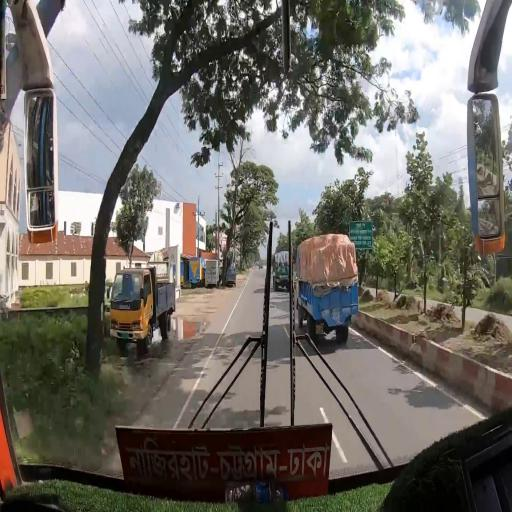pickup: (189, 258, 204, 283), (206, 261, 220, 286)
truck: (295, 236, 361, 346), (108, 270, 181, 350), (273, 252, 292, 290)
